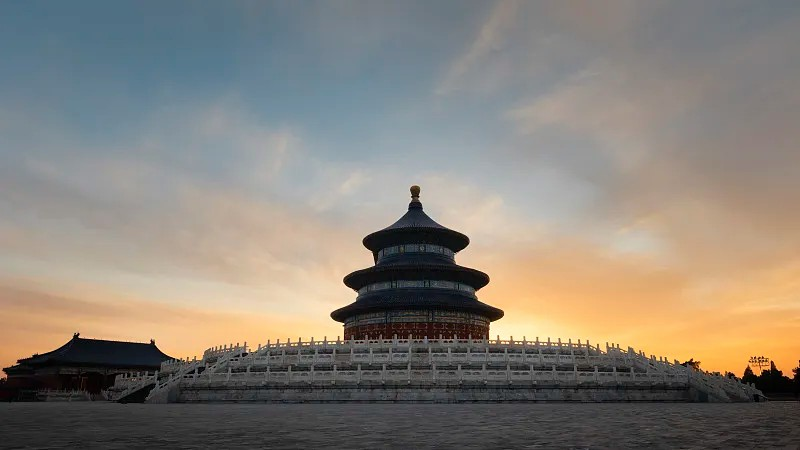Heaven: (327, 185, 505, 344)
